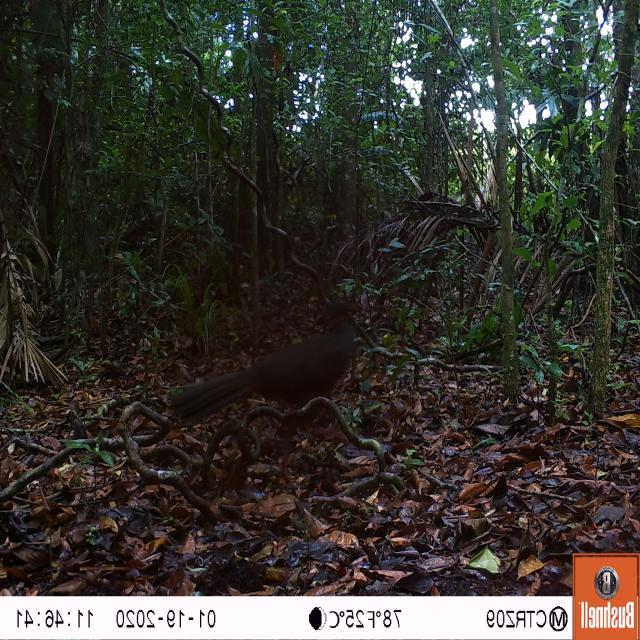Spixs Guan: (162, 294, 368, 440)
